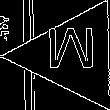M_S: (46, 30, 99, 81)
